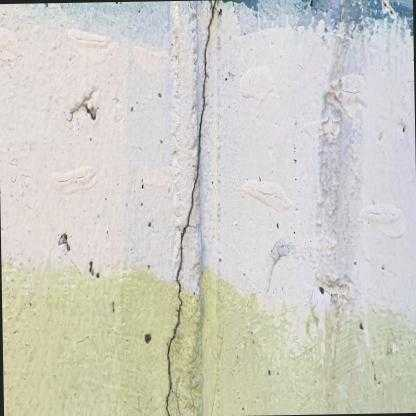crack: (164, 0, 217, 416)
